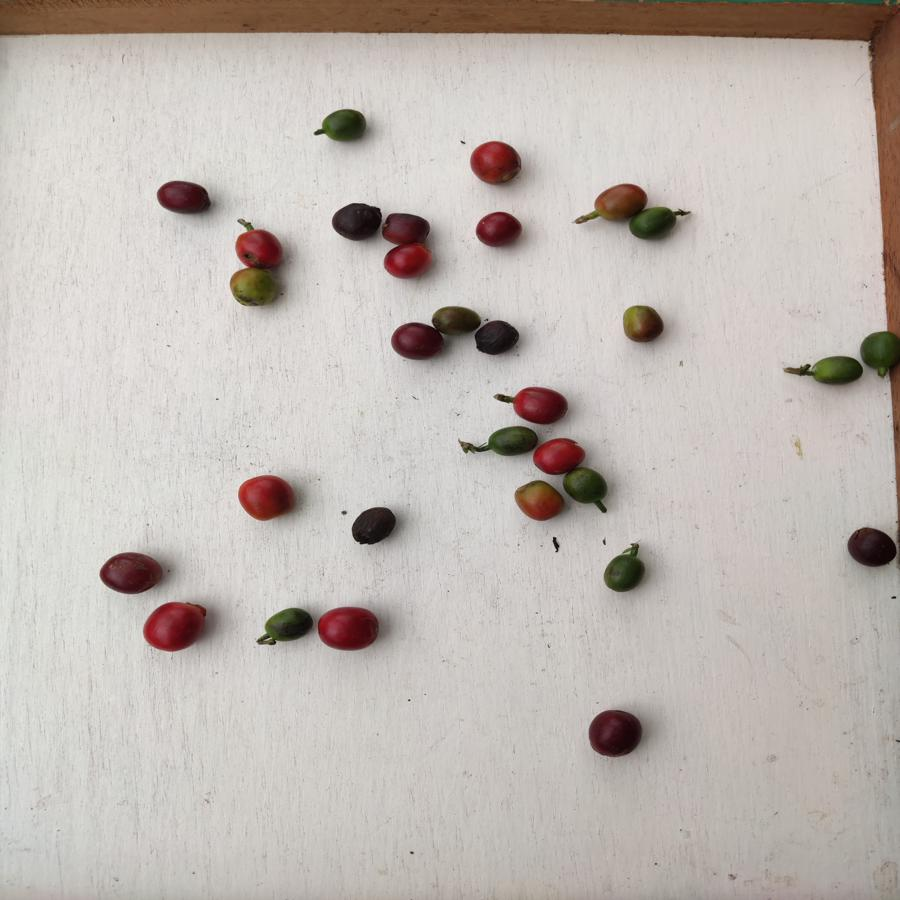Inmaduro: (563, 464, 612, 509), (804, 353, 866, 388), (319, 107, 371, 144), (858, 327, 900, 371), (262, 606, 313, 642), (604, 553, 645, 594), (487, 424, 537, 457), (628, 206, 674, 241)
Maduro: (142, 602, 211, 653), (317, 605, 383, 651), (238, 473, 298, 520), (469, 140, 526, 185), (234, 224, 284, 269), (384, 244, 434, 280), (533, 437, 585, 471)
Pinton: (510, 480, 570, 523), (229, 267, 280, 308), (593, 178, 639, 217), (619, 305, 663, 345), (432, 305, 479, 334)
Sobremaduro: (99, 551, 164, 595), (588, 707, 642, 759), (387, 318, 445, 364), (510, 387, 570, 427), (845, 527, 899, 570), (348, 507, 401, 548), (332, 201, 383, 243), (156, 180, 212, 216), (475, 210, 526, 247), (380, 210, 430, 246), (474, 319, 520, 358)
